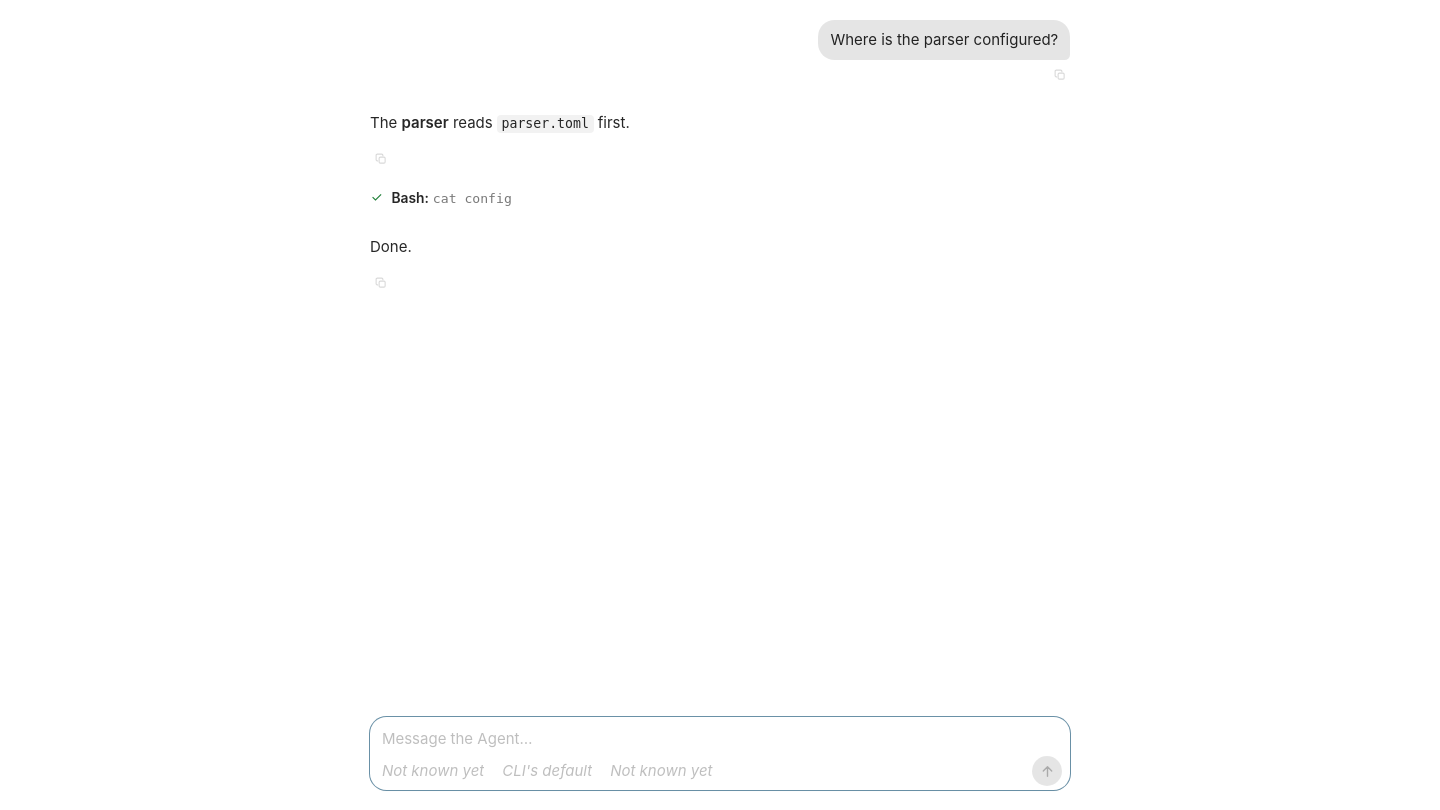
Test case: the find bar › steps with F3 and Shift+F3 from anywhere in the conversation while open, and with its buttons
The width and height of the screenshot is (1440, 810).
Press f in the text box labelled "Message the Agent…", box [382,725,1062,752]
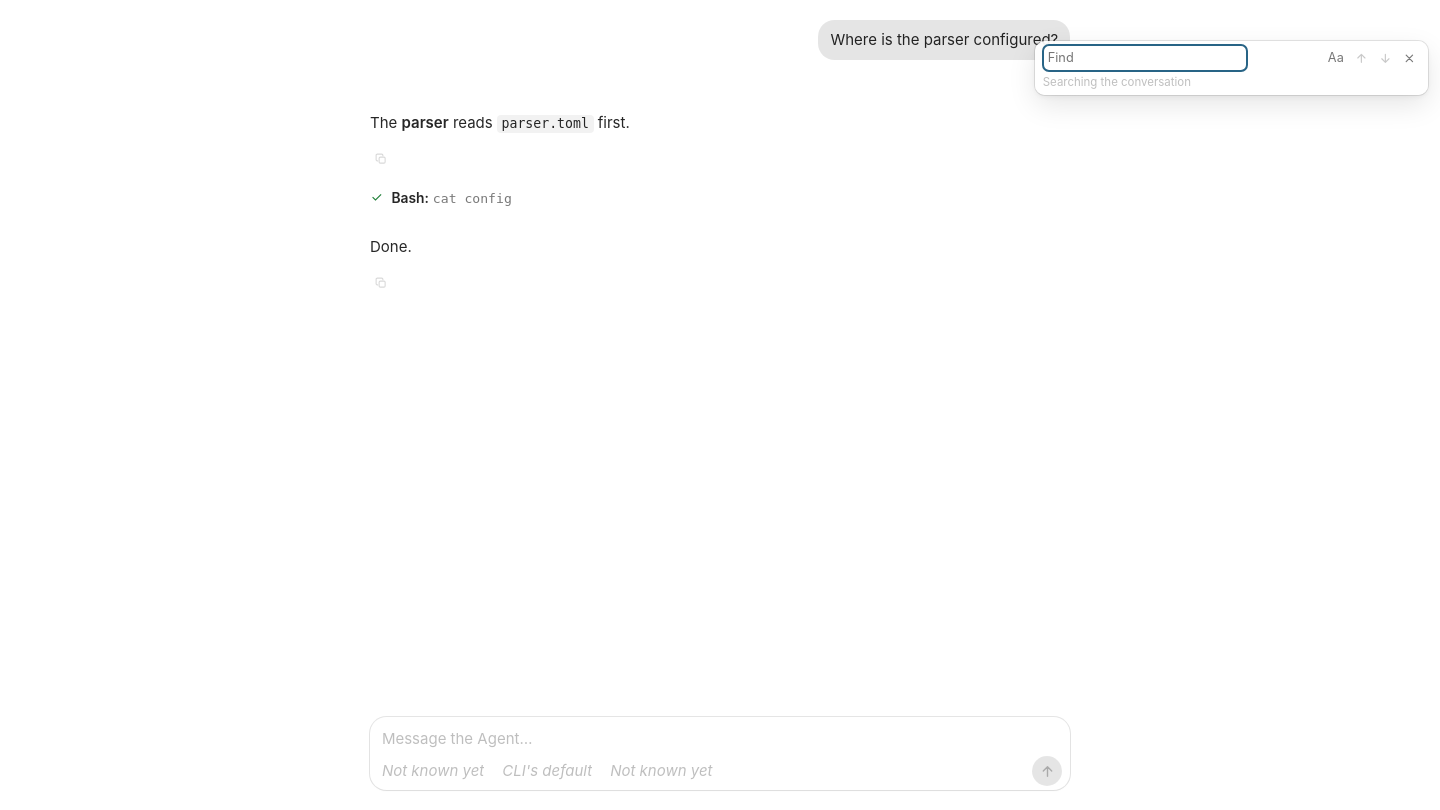
Type "parser" into the field labelled "Find".
click(1145, 58); type("parser")  # box [1043,45,1247,71]
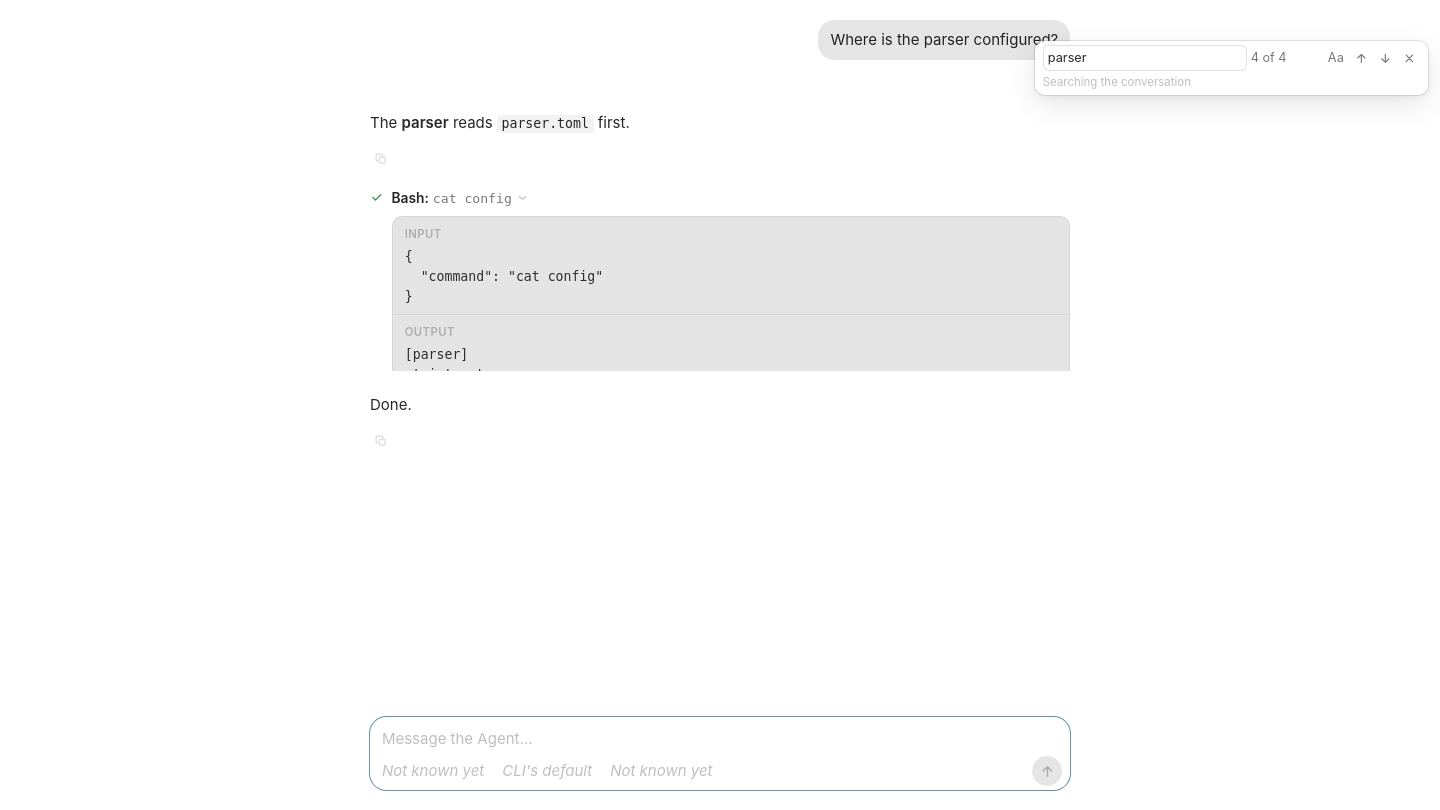
Now the text with class "conversation-find-count" reads "4 of 4", box [1251,50,1286,65]
Press F3 in the text box labelled "Message the Agent…", box [382,725,1062,752]
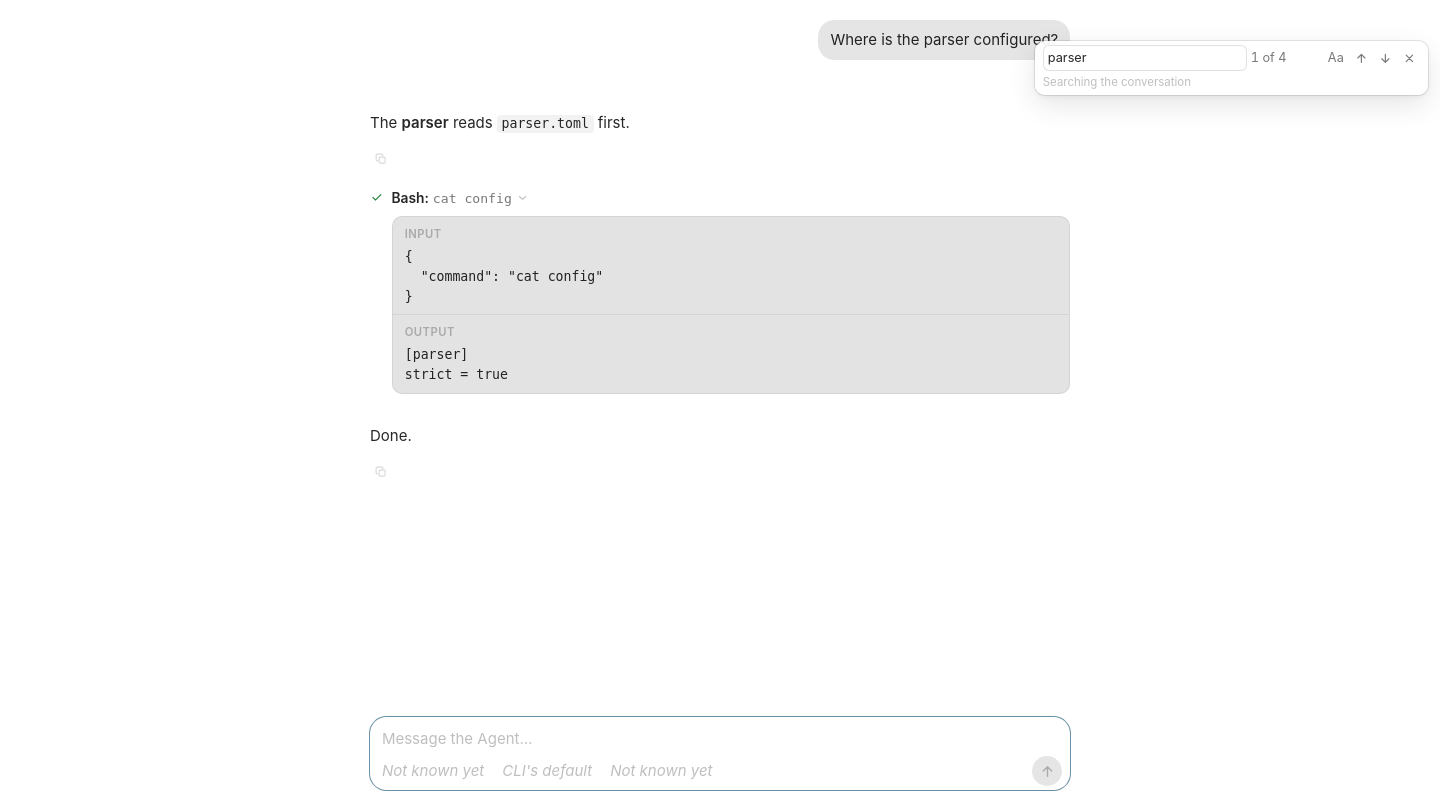
Now the text with class "conversation-find-count" reads "1 of 4", box [1251,50,1286,65]
Press F3 in the element showing "Done.", box [370,427,412,483]
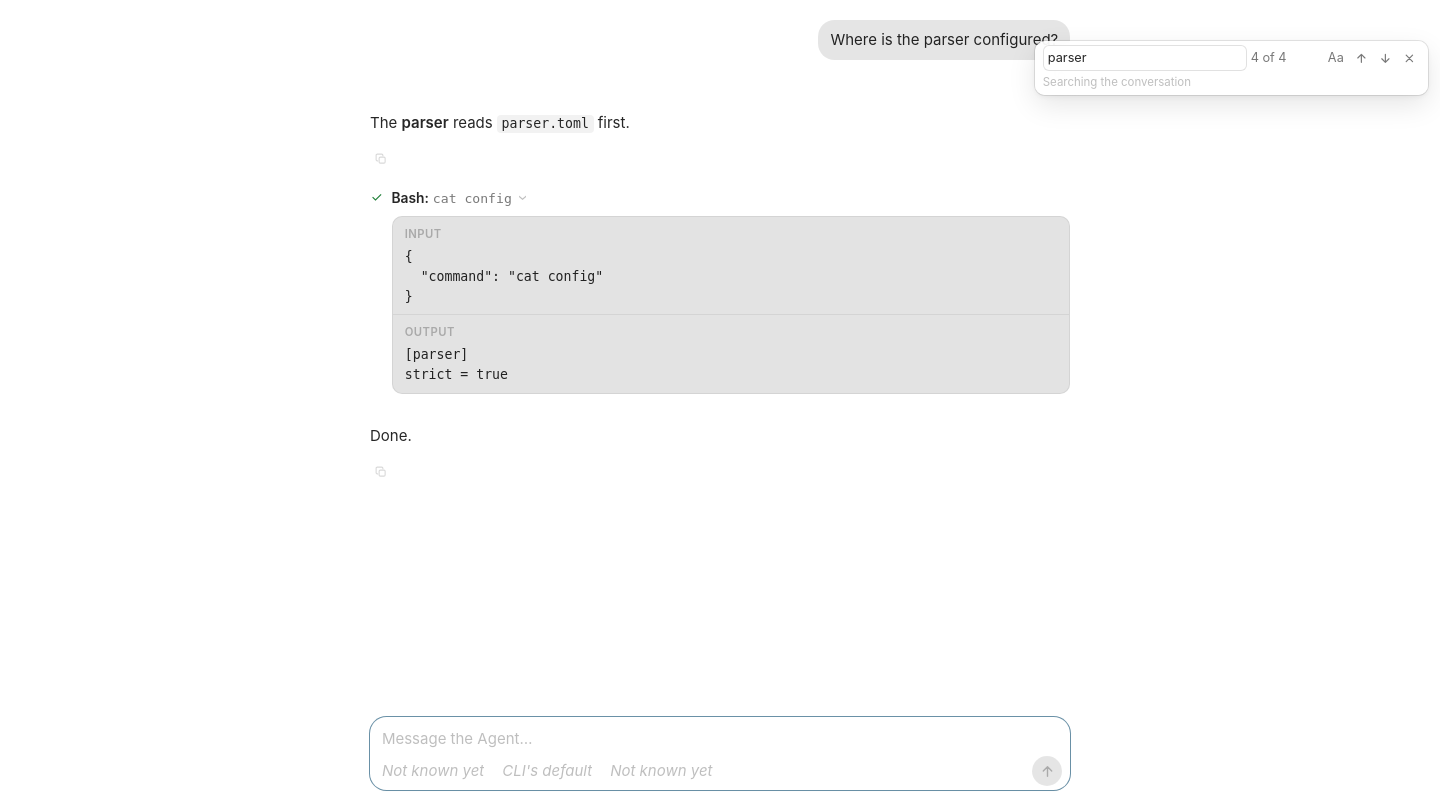
Now the text with class "conversation-find-count" reads "4 of 4", box [1251,50,1286,65]
Click the button named "Previous match".
click(1361, 58)  # box [1351,48,1371,68]
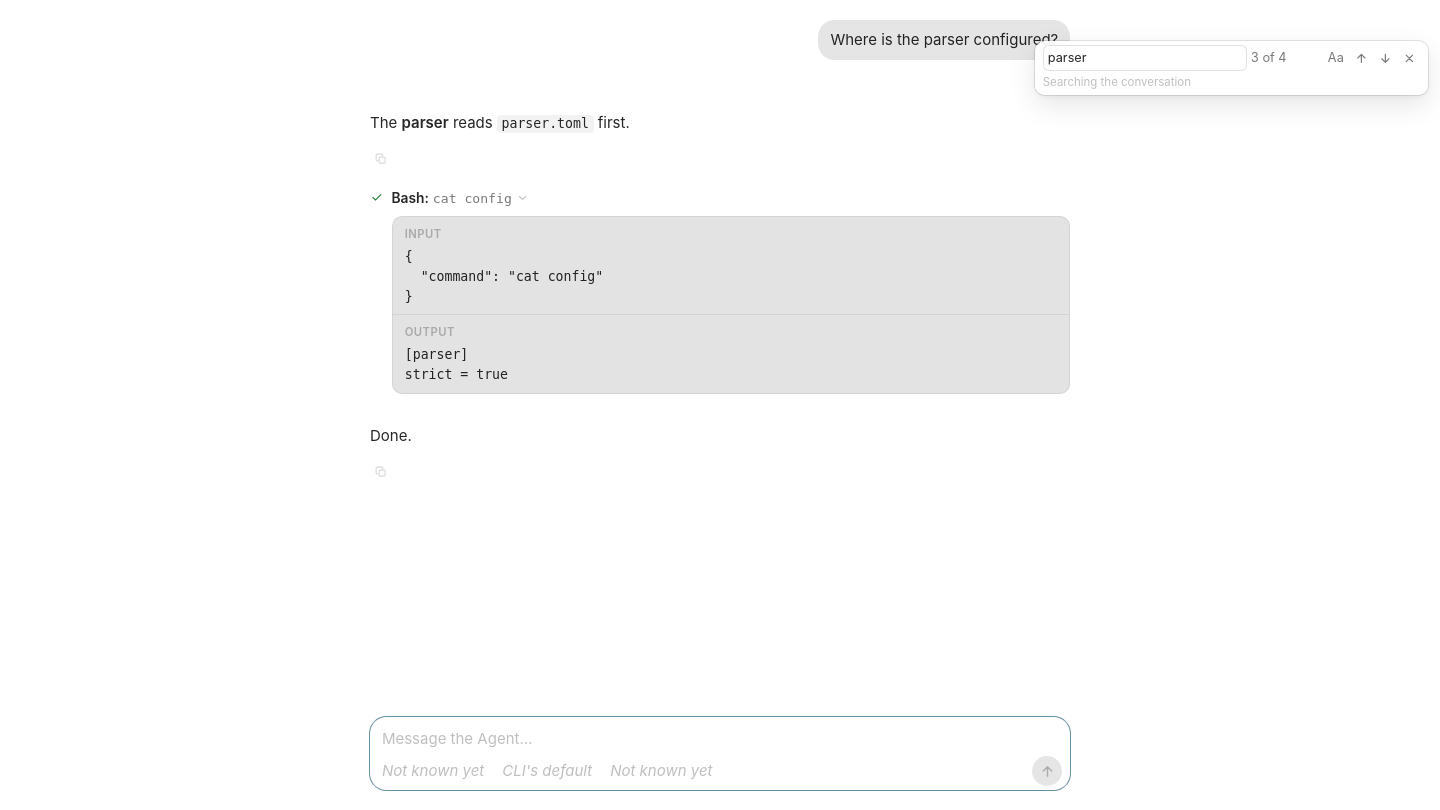
Now the text with class "conversation-find-count" reads "3 of 4", box [1251,50,1286,65]
Click the button named "Next match".
click(1385, 58)  # box [1375,48,1396,68]
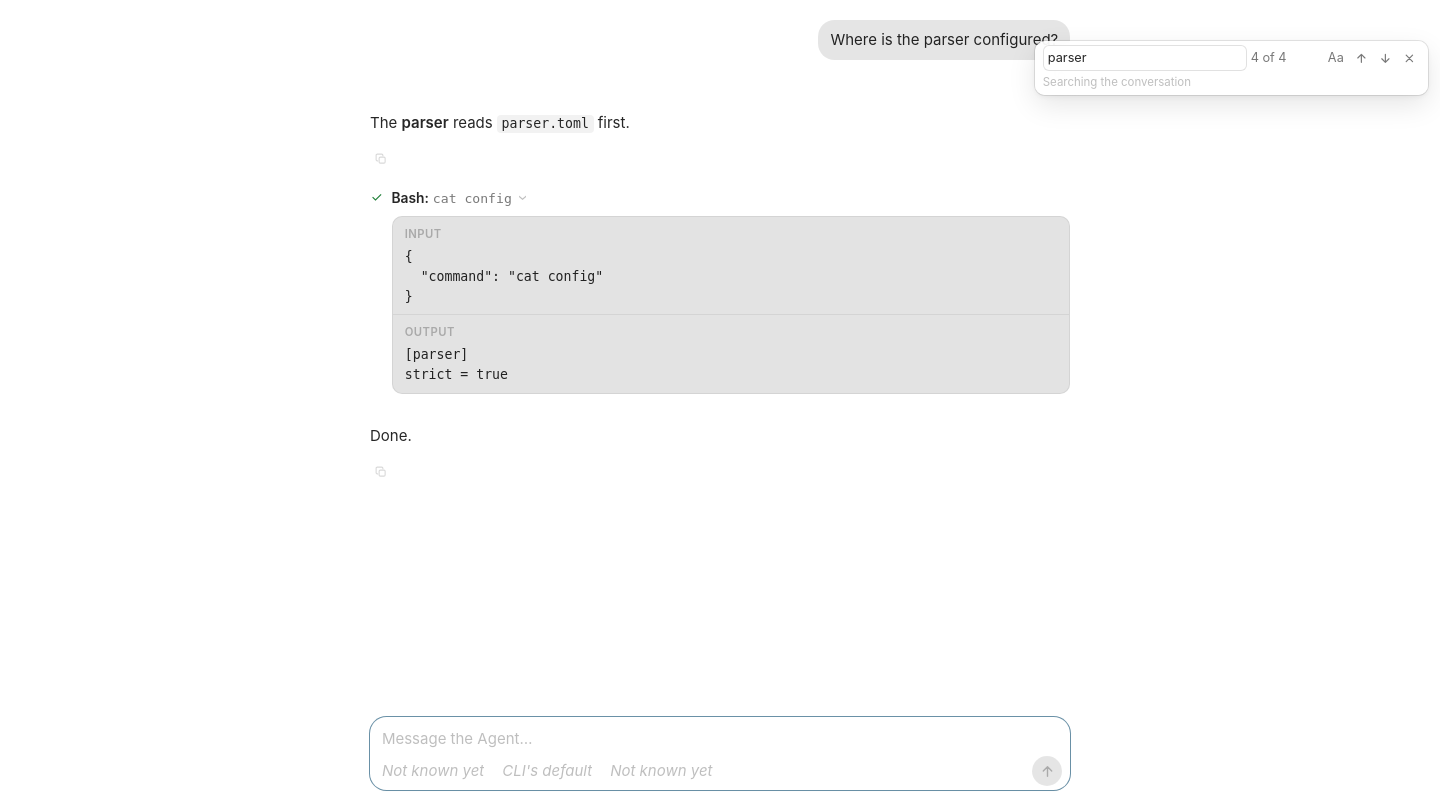
Now the text with class "conversation-find-count" reads "4 of 4", box [1251,50,1286,65]
